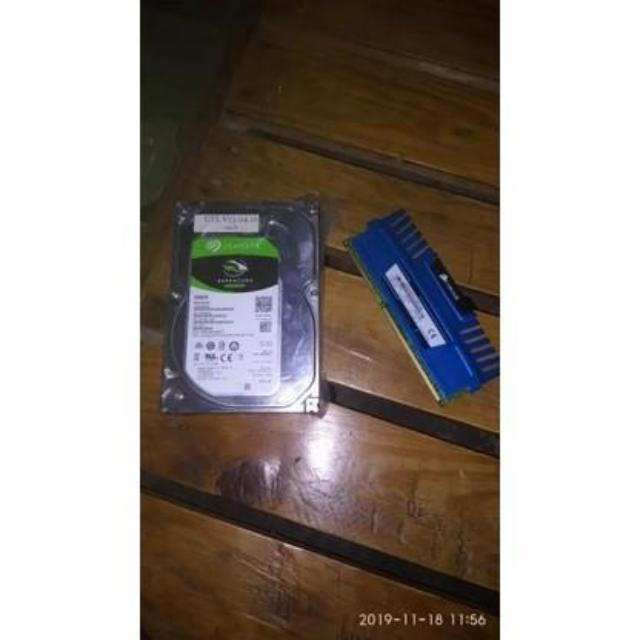DISK: (163, 190, 323, 424)
RAM: (352, 214, 501, 412)
